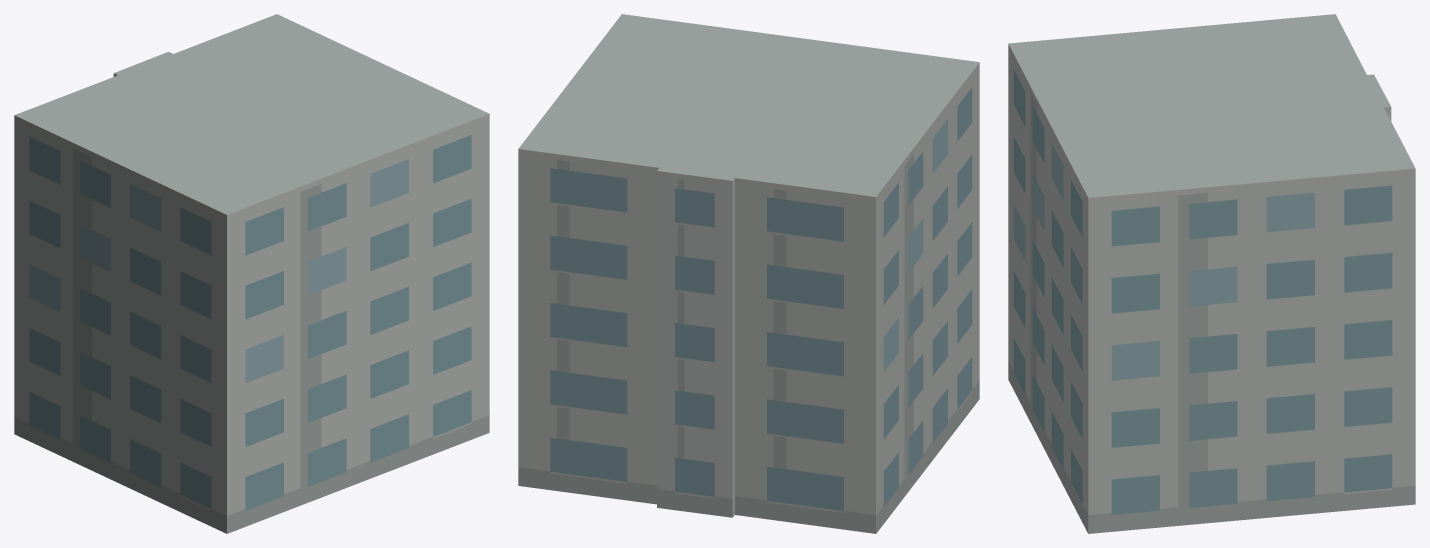
File: survey-upis-32698335.glb
3 renders of one model, left to right at view 1: azimuth 30°, elevation 25°; view 2: azimuth 150°, elevation 25°; view 3: azimuth 270°, elevation 25°, orthographic. The views are drawn at different scales.
Visible parts, largest first — view 1: survey-upis-32698335.tmp; view 2: survey-upis-32698335.tmp; view 3: survey-upis-32698335.tmp.
Part boxes in pixels (x1,y1,x2,y2): survey-upis-32698335.tmp: (14, 14, 489, 533); survey-upis-32698335.tmp: (518, 14, 979, 533); survey-upis-32698335.tmp: (1008, 14, 1415, 533).
Size of the model in its own units: 17.22 by 14.65 by 16.11.
